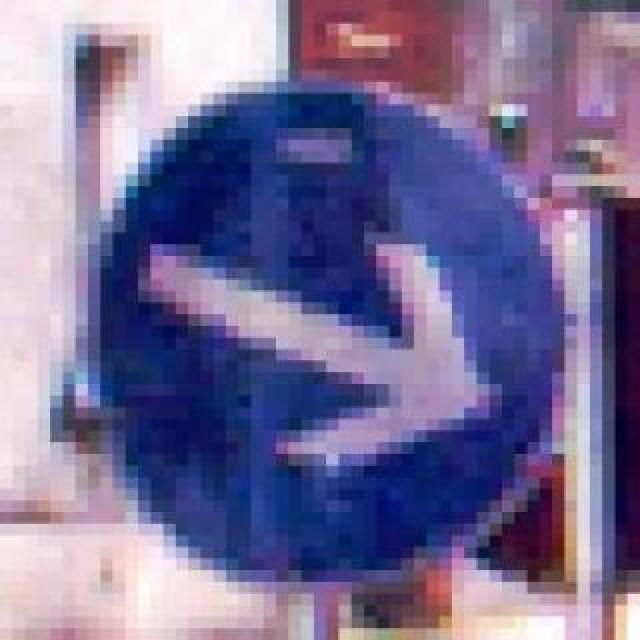keep right: (64, 70, 566, 570)
